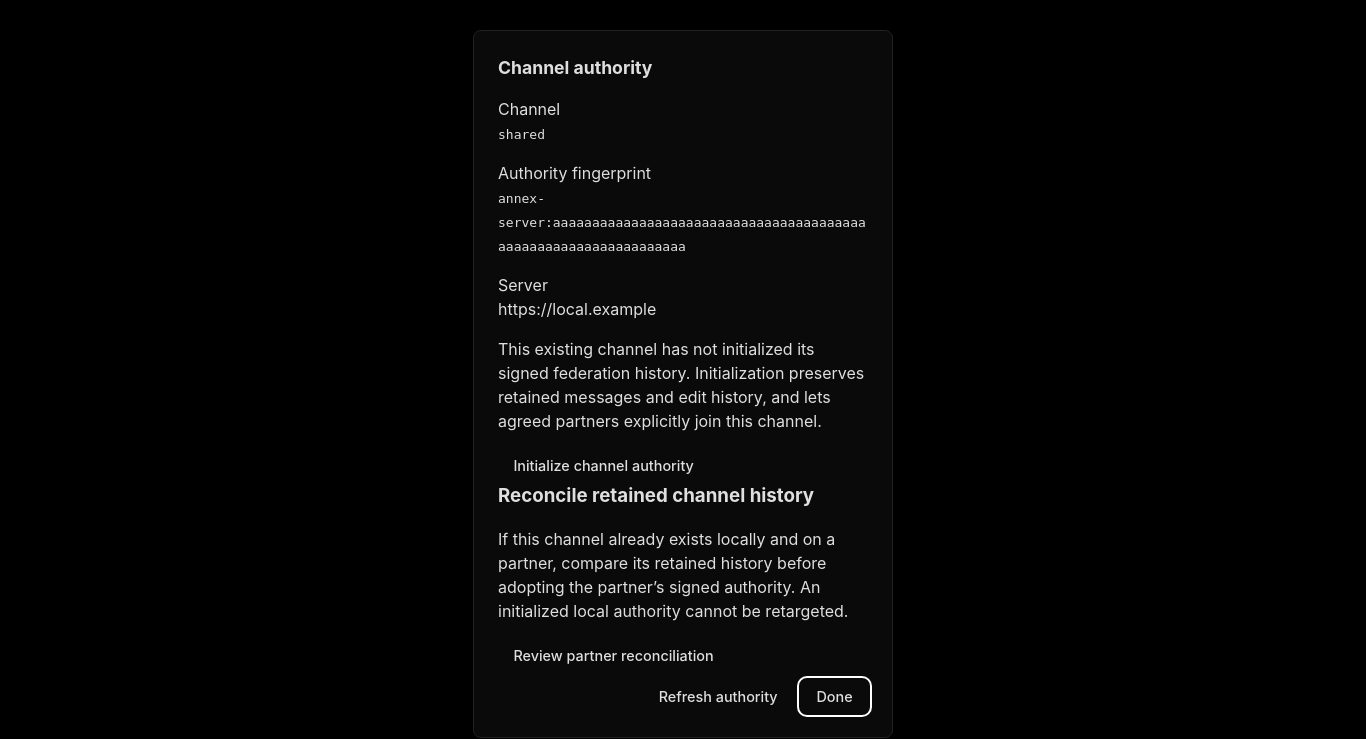
Test case: keeps a failed initialization visible and permits an explicit retry
Click the button "Initialize channel authority". click: (604, 466)
box: [498,449,709,482]
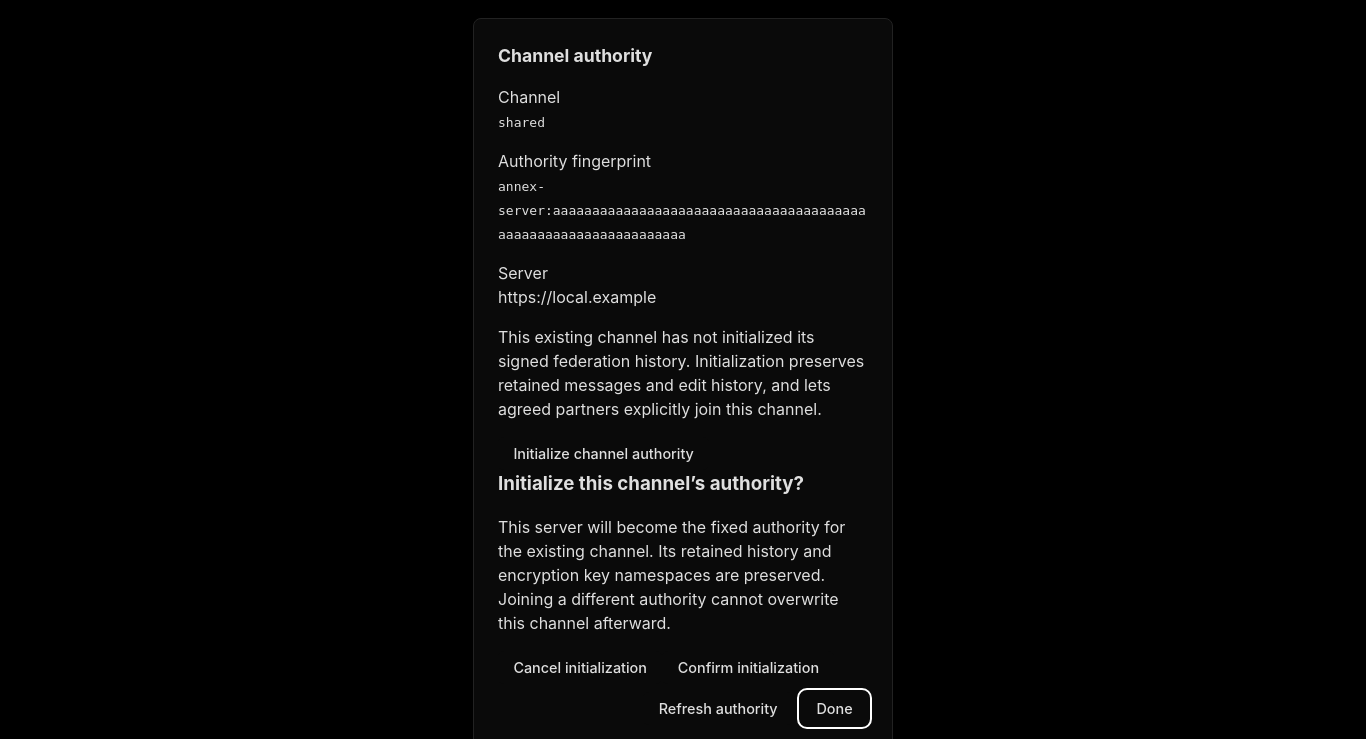
Click the button "Confirm initialization". click: (748, 667)
box: [662,650,834,684]
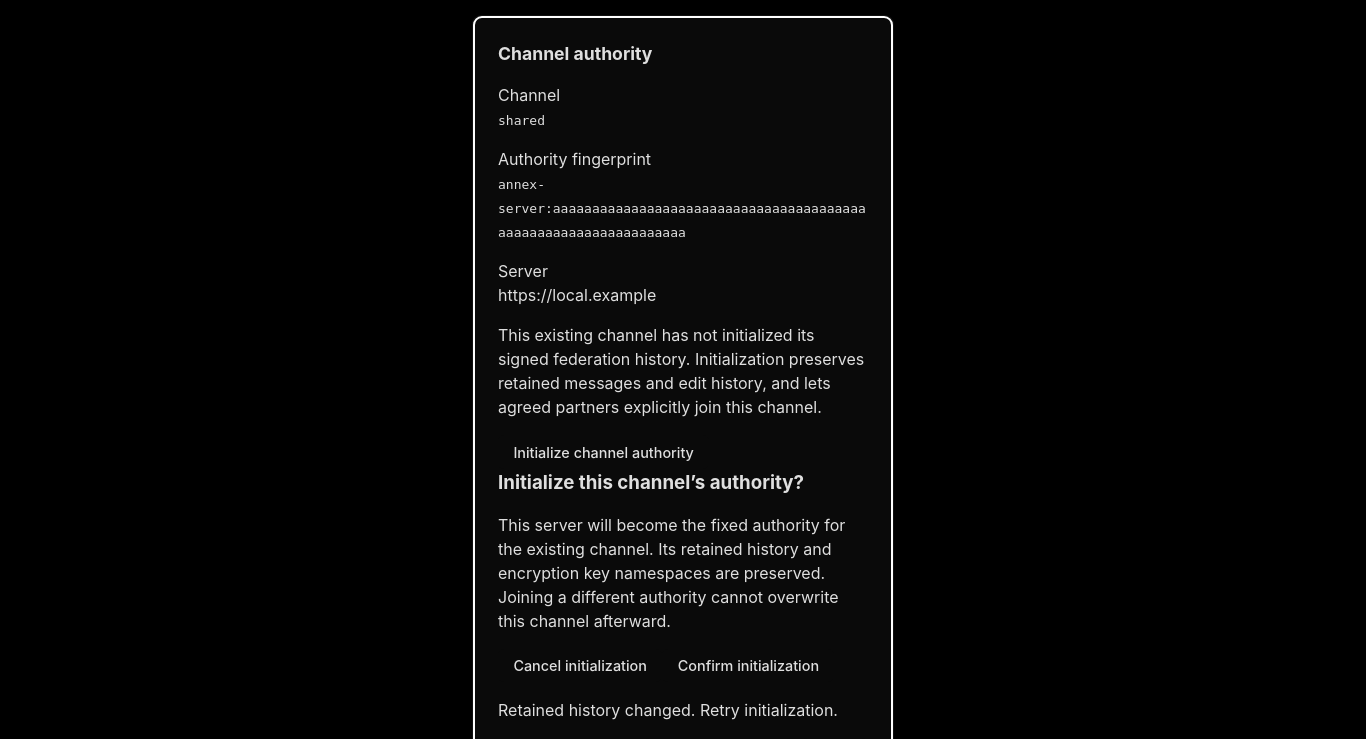
Result: the button "Confirm initialization" is enabled
Result: the message shows "Retained history changed" at [498,700,838,720]
Click the button "Confirm initialization". click: (748, 666)
box: [662,649,834,682]
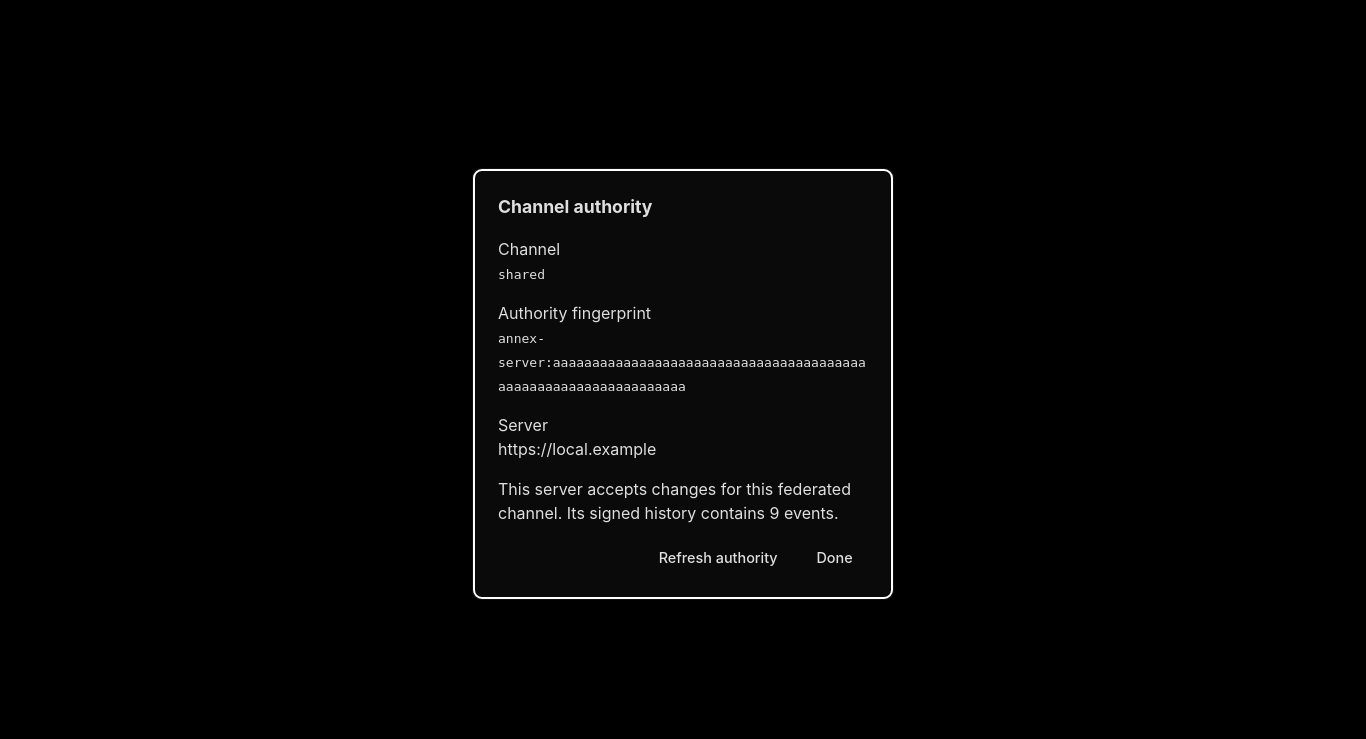
Result: the message shows "9 events" at [498,476,868,524]
